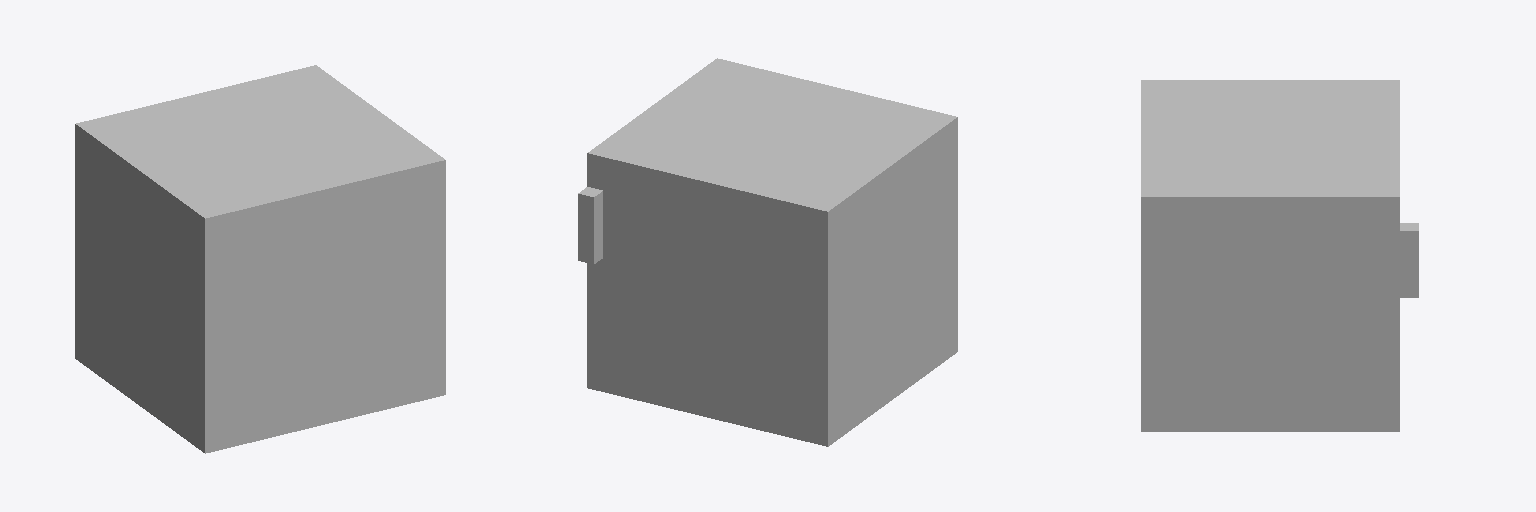
File: chest_right.obj
3 renders of one model, left to right at view 1: azimuth 30°, elevation 25°; view 2: azimuth 150°, elevation 25°; view 3: azimuth 270°, elevation 25°, orthographic.
Parts seen in each view (by area): view 1: cube.001, cube; view 2: cube.001, cube, cube.002; view 3: cube.001, cube, cube.002.
Boxes of the visible parts, x1,y1,x2,y2 form: cube.001: [75, 65, 445, 302]; cube: [75, 208, 445, 453]; cube.001: [587, 58, 957, 295]; cube: [587, 201, 957, 446]; cube.002: [578, 187, 602, 263]; cube.001: [1141, 80, 1399, 280]; cube: [1141, 281, 1399, 431]; cube.002: [1400, 223, 1418, 297].
Size of the model in its own units: 0.9375 by 0.875 by 0.9375.